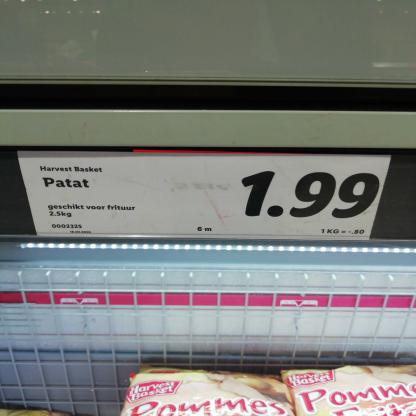prtg: (18, 151, 393, 241)
